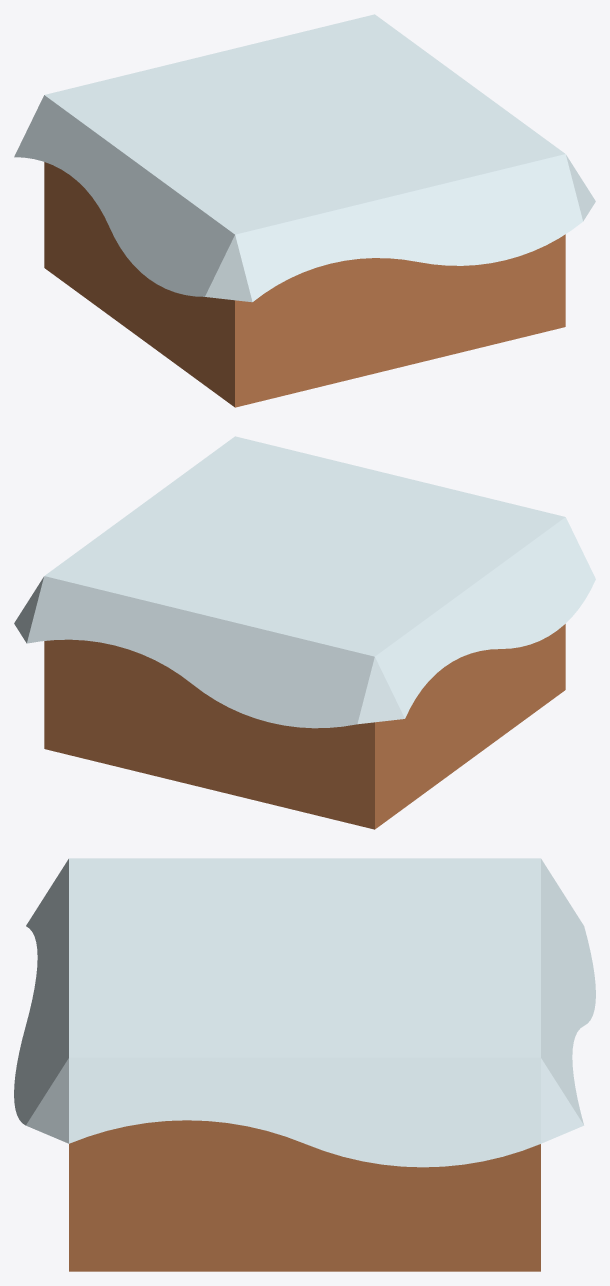
The model's file is blockSnowHalf.fbx.
3 renders of one model, top to bottom at view 1: azimuth 30°, elevation 25°; view 2: azimuth 150°, elevation 25°; view 3: azimuth 270°, elevation 25°, orthographic. The views are drawn at different scales.
Visible parts, largest first — view 1: blockSnowHalf; view 2: blockSnowHalf; view 3: blockSnowHalf.
Part boxes in pixels (<box>): blockSnowHalf: <box>14,14,595,407</box>; blockSnowHalf: <box>14,436,595,829</box>; blockSnowHalf: <box>14,858,595,1271</box>.
Bounding box in the file's own units: 12.33 × 5 × 12.33.
